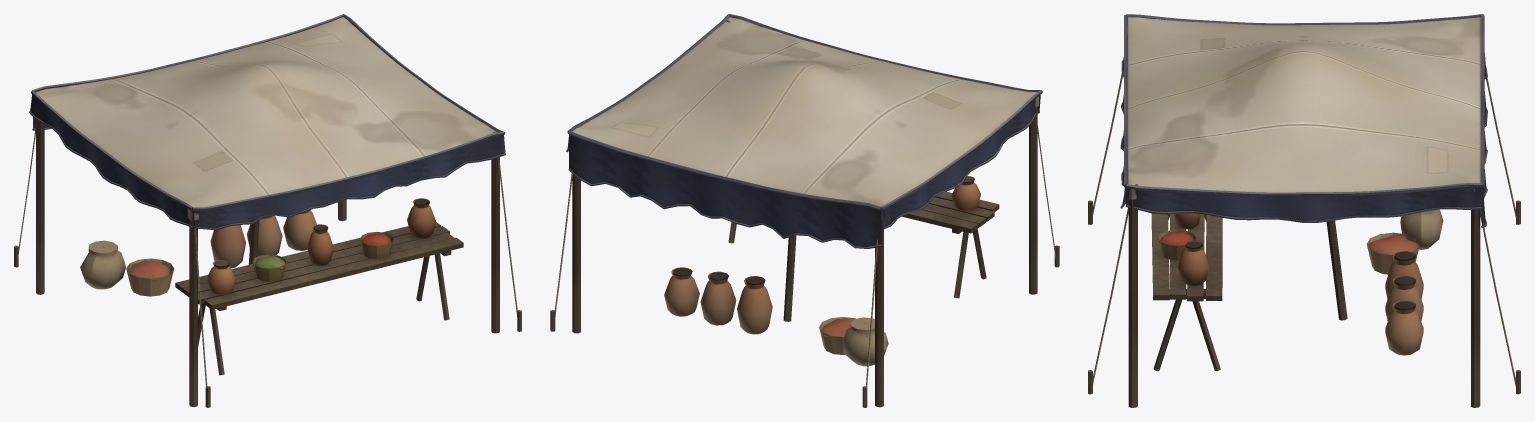
Rendered from vc_tent_b.glb.
The picture shows the model from 3 angles, left to right: view 1: azimuth 30°, elevation 25°; view 2: azimuth 150°, elevation 25°; view 3: azimuth 270°, elevation 25°; orthographic projection. The views are drawn at different scales.
Parts seen in each view (by area): view 1: vc_tent_b; view 2: vc_tent_b; view 3: vc_tent_b.
Part boxes in pixels (x1,y1,x2,y2): vc_tent_b: [14, 14, 521, 407]; vc_tent_b: [550, 14, 1059, 407]; vc_tent_b: [1088, 14, 1520, 407].
Size of the model in its own units: 3.69 by 2.7 by 3.89.
Materials: 1 (1 with a texture image).
